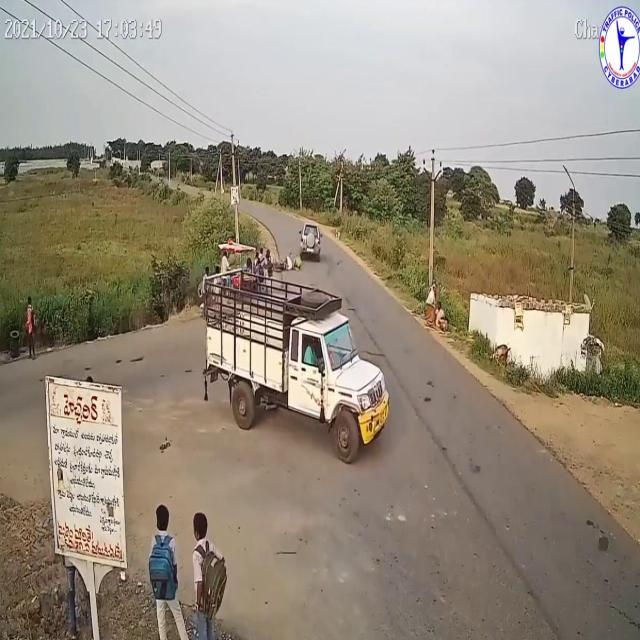accident: (271, 219, 325, 281)
